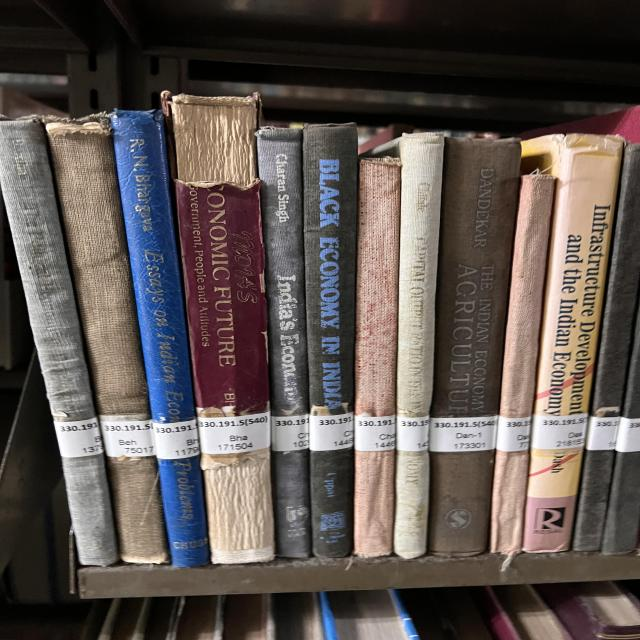Book: (47, 116, 168, 564), (0, 120, 118, 565), (112, 111, 208, 566), (522, 134, 623, 552), (428, 138, 522, 556), (257, 128, 312, 558), (303, 124, 357, 558), (393, 132, 445, 559), (353, 158, 402, 558)
Label: (198, 411, 270, 455), (430, 415, 498, 452), (100, 420, 155, 458), (532, 414, 588, 450), (53, 418, 103, 458), (152, 419, 200, 460), (310, 412, 353, 451), (355, 415, 395, 451), (272, 414, 308, 451), (497, 416, 532, 451), (397, 415, 430, 451)
